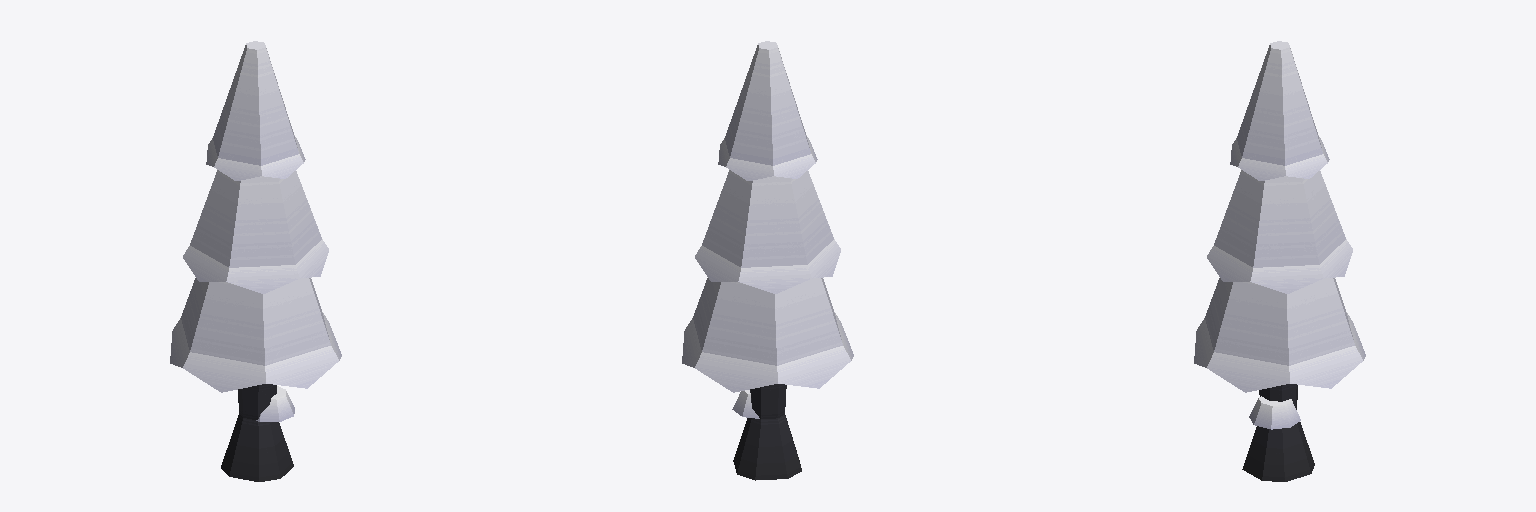
3 views of the same model, side by side, from view 1: azimuth 30°, elevation 25°; view 2: azimuth 150°, elevation 25°; view 3: azimuth 270°, elevation 25° (orthographic).
Parts seen in each view (by area): view 1: tree.017; view 2: tree.017; view 3: tree.017.
Part boxes in pixels (x1,y1,x2,y2): tree.017: (170, 41, 341, 481); tree.017: (682, 41, 853, 480); tree.017: (1194, 41, 1365, 481).
Size of the model in its own units: 1.35 by 3.47 by 1.29.
1 materials, 1 textured.